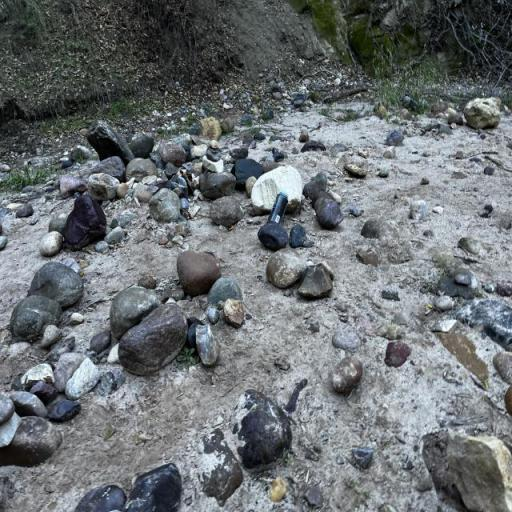bottle: (268, 189, 288, 225)
